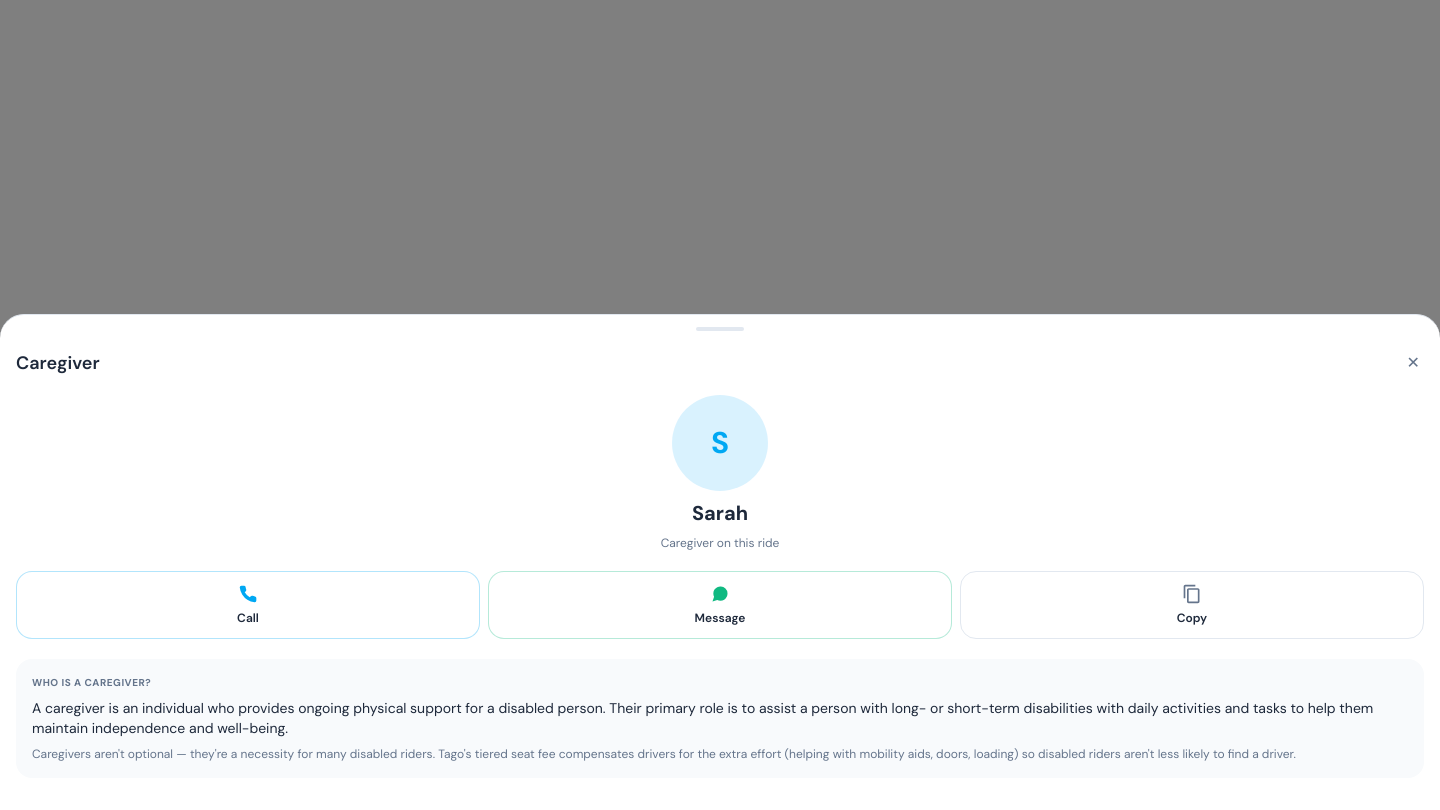
Test: CaregiverInfoSheet › Copy writes to clipboard and shows the toast
Click the button with test id "caregiver-info-copy".
click(1192, 605)  # box [960, 571, 1424, 639]
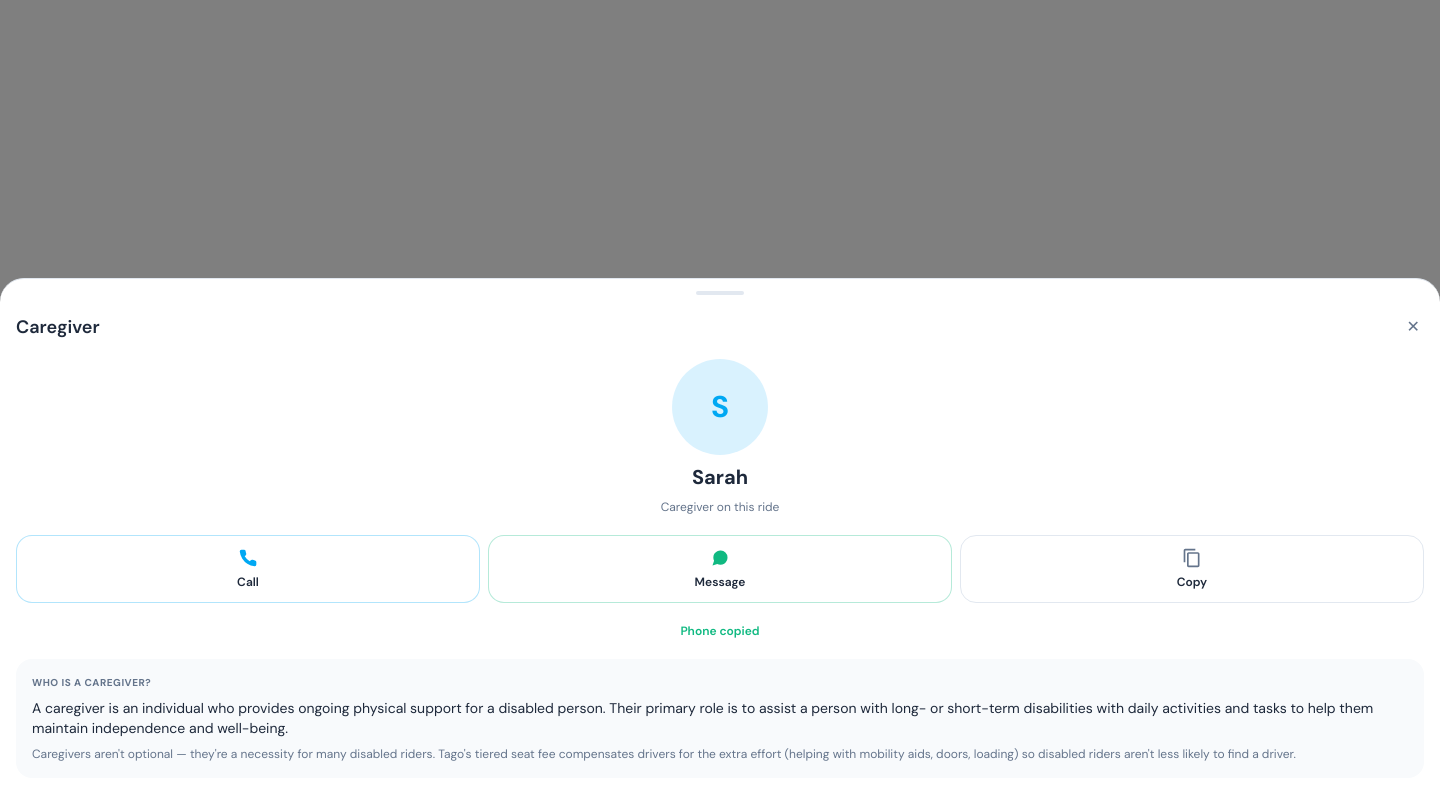
Expected: the text "Phone copied" is shown, [680, 623, 760, 639]
